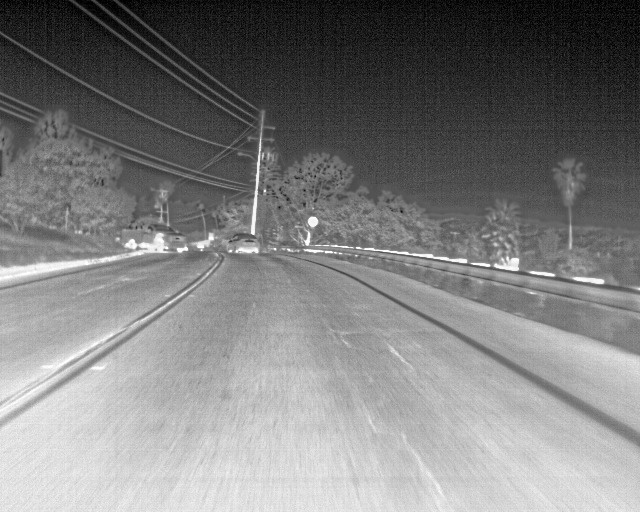vehicle: (227, 233, 262, 256)
